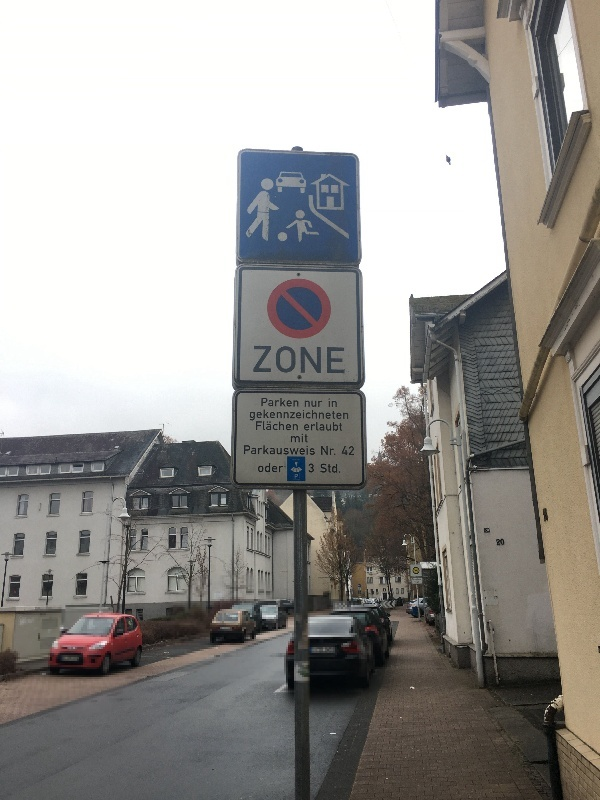text: (257, 346, 272, 374), (273, 346, 288, 374), (289, 346, 304, 374), (305, 346, 320, 374), (321, 346, 336, 374), (337, 346, 345, 374), (257, 409, 272, 422), (273, 409, 288, 422), (289, 409, 304, 422), (305, 409, 320, 422), (321, 409, 336, 422), (337, 409, 349, 422), (321, 464, 336, 474), (321, 446, 336, 456), (257, 446, 272, 455), (273, 446, 288, 455), (289, 446, 304, 455), (305, 422, 320, 431), (321, 422, 336, 431), (257, 422, 272, 431), (273, 422, 288, 431), (273, 398, 288, 407), (259, 463, 272, 473), (291, 434, 304, 443), (309, 463, 320, 473), (273, 463, 284, 473), (342, 446, 352, 456), (305, 446, 315, 455), (305, 401, 320, 407), (262, 398, 272, 407), (289, 398, 299, 407), (289, 422, 298, 431), (249, 446, 256, 455), (329, 398, 336, 407), (497, 539, 505, 546), (254, 346, 256, 374), (337, 422, 343, 431), (295, 474, 304, 479), (337, 464, 341, 474), (253, 409, 256, 422), (485, 529, 496, 532), (305, 434, 308, 443), (321, 401, 323, 407), (417, 578, 422, 580), (353, 446, 354, 456), (412, 578, 416, 580), (417, 580, 420, 582), (415, 569, 416, 573), (417, 569, 418, 573), (417, 582, 419, 583), (415, 580, 416, 582)
